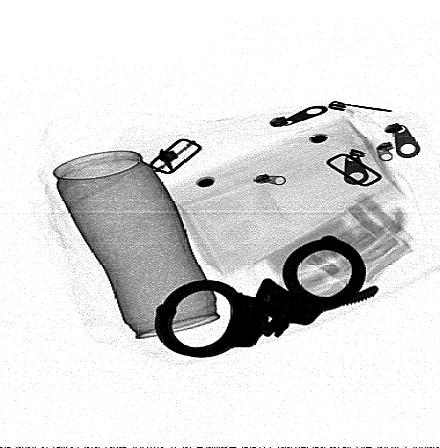HandCuffs: (155, 235, 380, 357)
